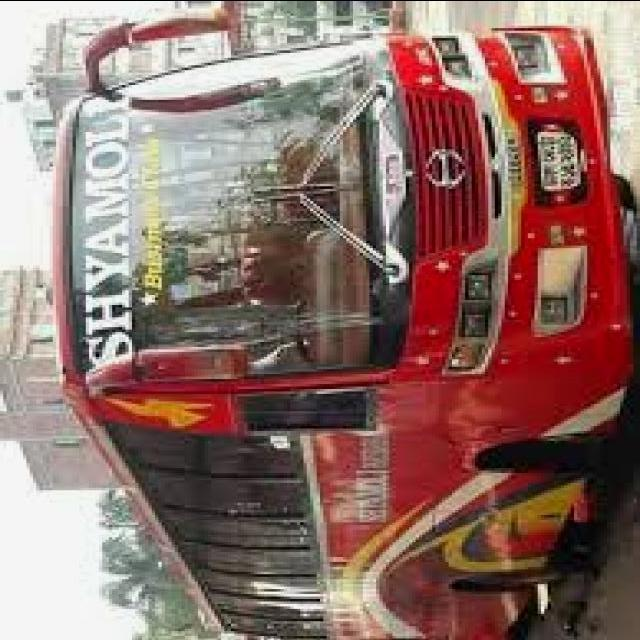bus: (51, 9, 634, 640)
